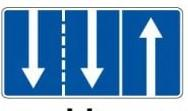road_sign: (0, 6, 184, 99)
